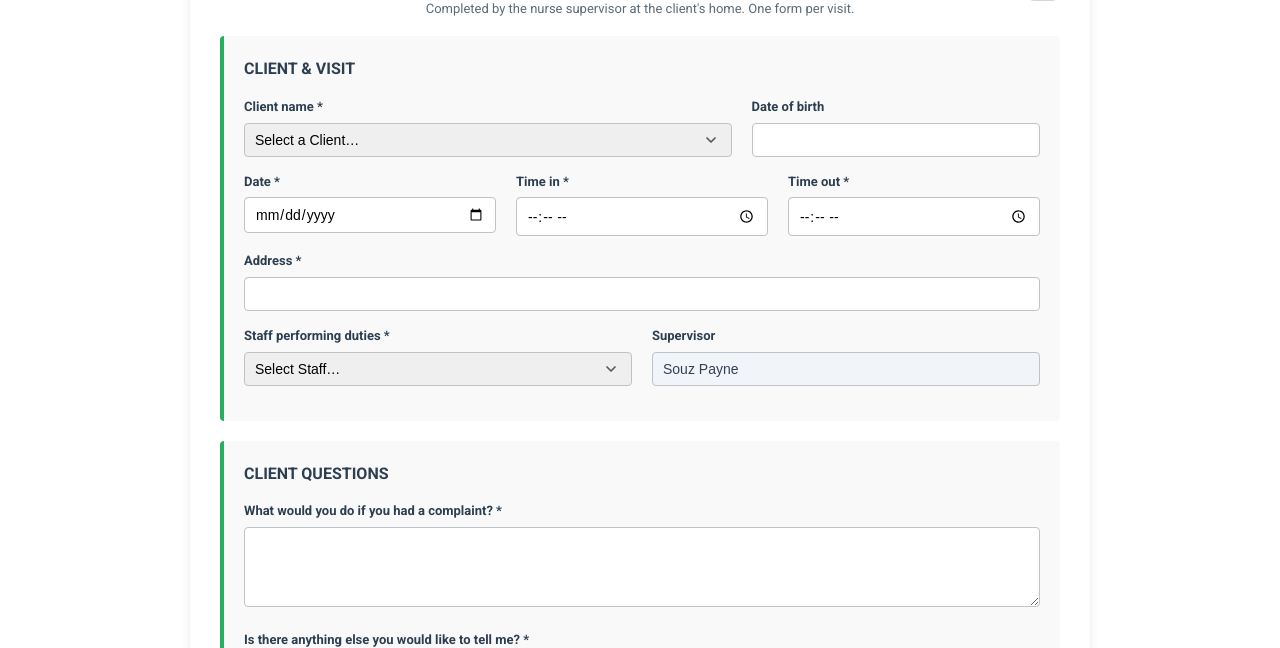
SupervisoryVisitPage › flags a vital outside its normal range for the client's age
Select "Neal Kelly" in the dropdown labelled "Client name *" at (488, 140), box [244, 123, 732, 157]
(page scrolled)
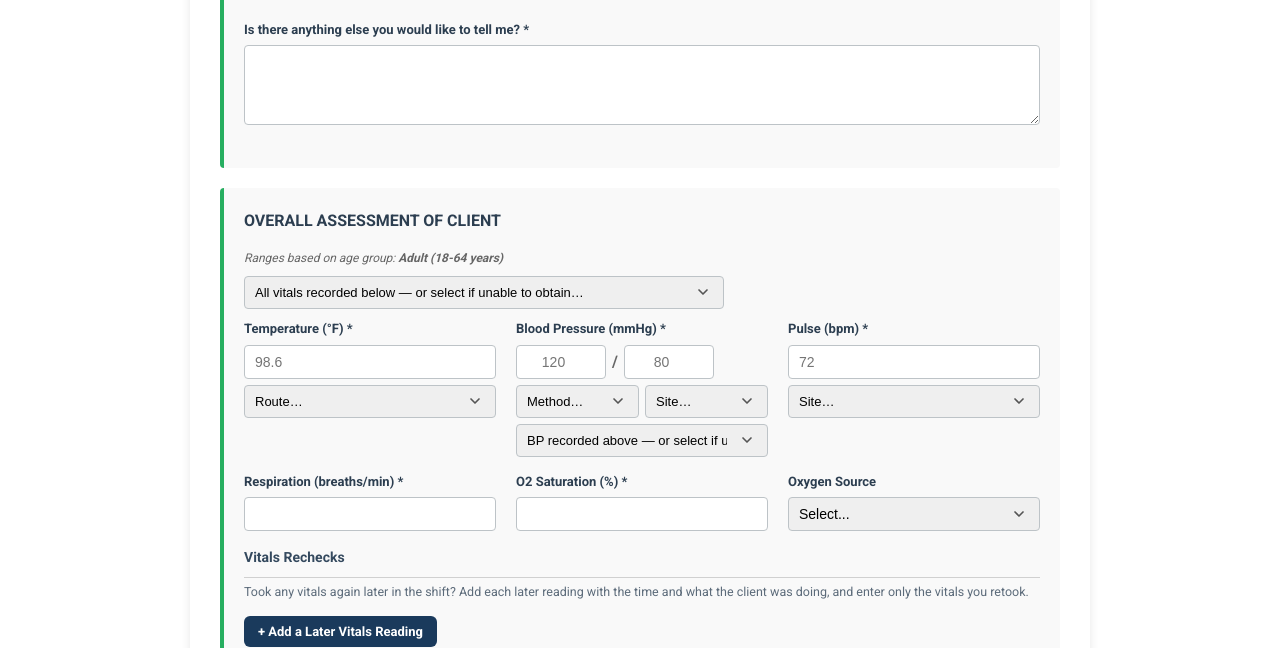
Type "140" into the number field labelled "Pulse (bpm) *".
click(914, 362); type("140")  # box [788, 345, 1040, 379]
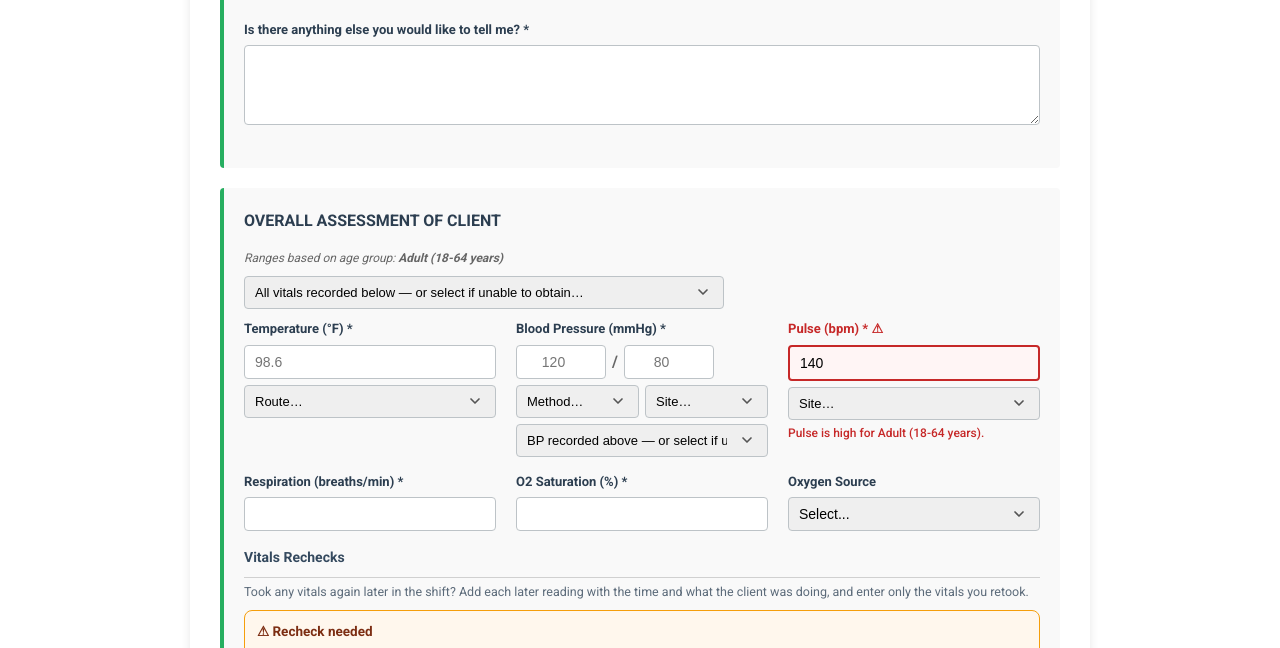
Result: the text "Pulse is high for Adult (18-64 years)." is shown at [788, 426, 984, 440]
